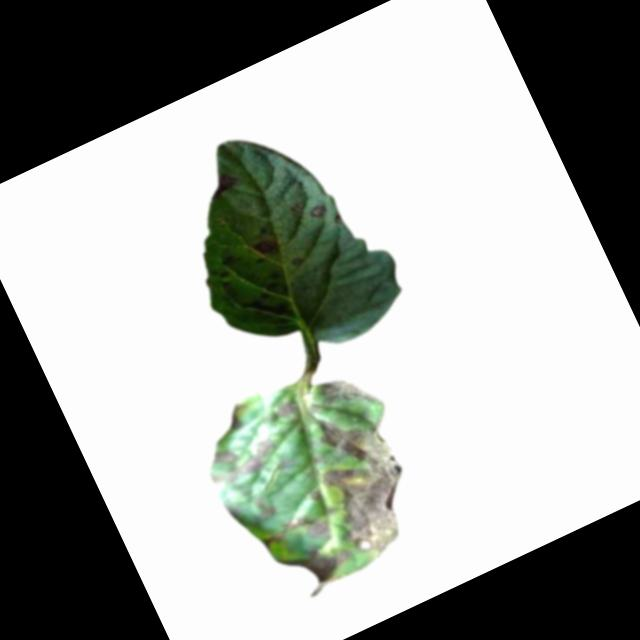Early_blight: (300, 399, 430, 563), (281, 533, 361, 602), (311, 358, 385, 426), (200, 429, 279, 489), (259, 504, 336, 563), (274, 396, 303, 422), (307, 201, 328, 221)
